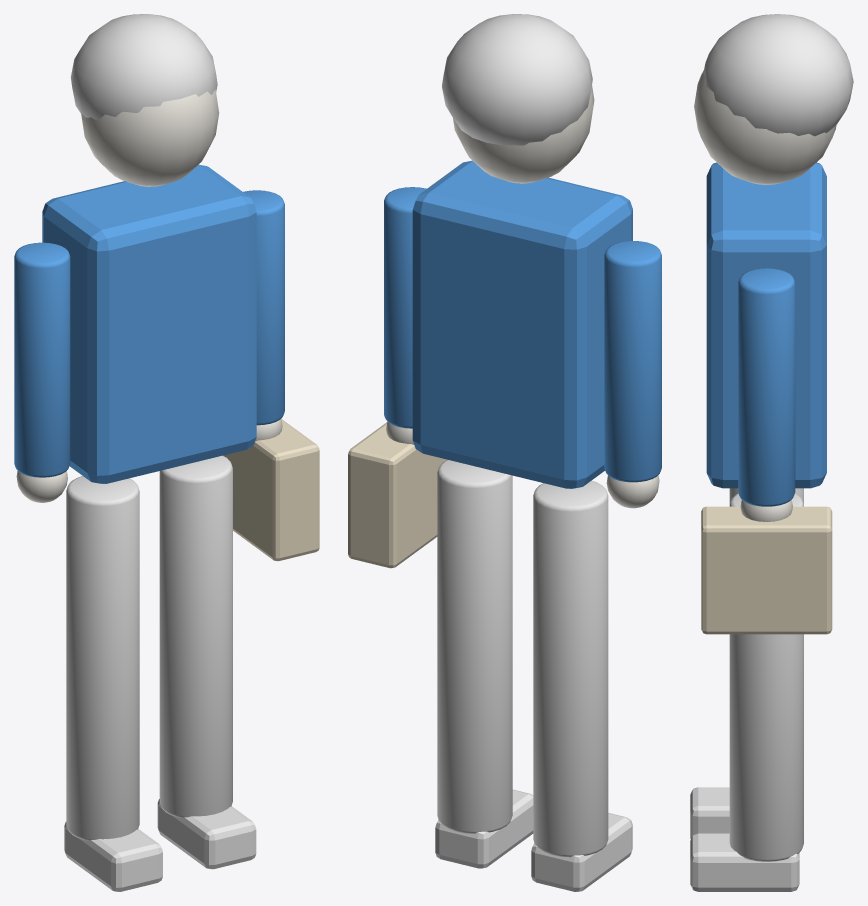
The model's file is SM_NPC_Shopper.fbx.
3 views of the same model, side by side, from view 1: azimuth 30°, elevation 25°; view 2: azimuth 150°, elevation 25°; view 3: azimuth 270°, elevation 25° (orthographic). The views are drawn at different scales.
Parts seen in each view (by area): view 1: Torso.001, LegL.001, LegR.001, Head.001, ArmR.001, ArmL.001; view 2: Torso.001, LegL.001, LegR.001, Head.001, ArmR.001, ArmL.001; view 3: ArmR.001, Torso.001, LegR.001, Head.001, LegL.001.
Boxes of the visible parts, box(x1,y1,x2,y2) form: Torso.001: box(42, 164, 256, 483); LegL.001: box(64, 476, 162, 891); LegR.001: box(157, 455, 256, 869); Head.001: box(70, 14, 219, 186); ArmR.001: box(223, 190, 319, 561); ArmL.001: box(14, 242, 70, 502); Torso.001: box(412, 160, 632, 488); LegL.001: box(531, 480, 632, 891); LegR.001: box(435, 459, 533, 868); Head.001: box(442, 14, 594, 183); ArmR.001: box(348, 187, 446, 568); ArmL.001: box(604, 241, 661, 508); ArmR.001: box(701, 268, 832, 634); Torso.001: box(706, 162, 826, 488); LegR.001: box(690, 493, 803, 891); Head.001: box(694, 14, 853, 184); LegL.001: box(690, 488, 803, 838).
Bounding box in the file's own units: 0.582 × 1.69 × 0.2992.
